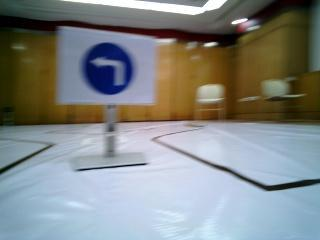left: (65, 30, 156, 107)
